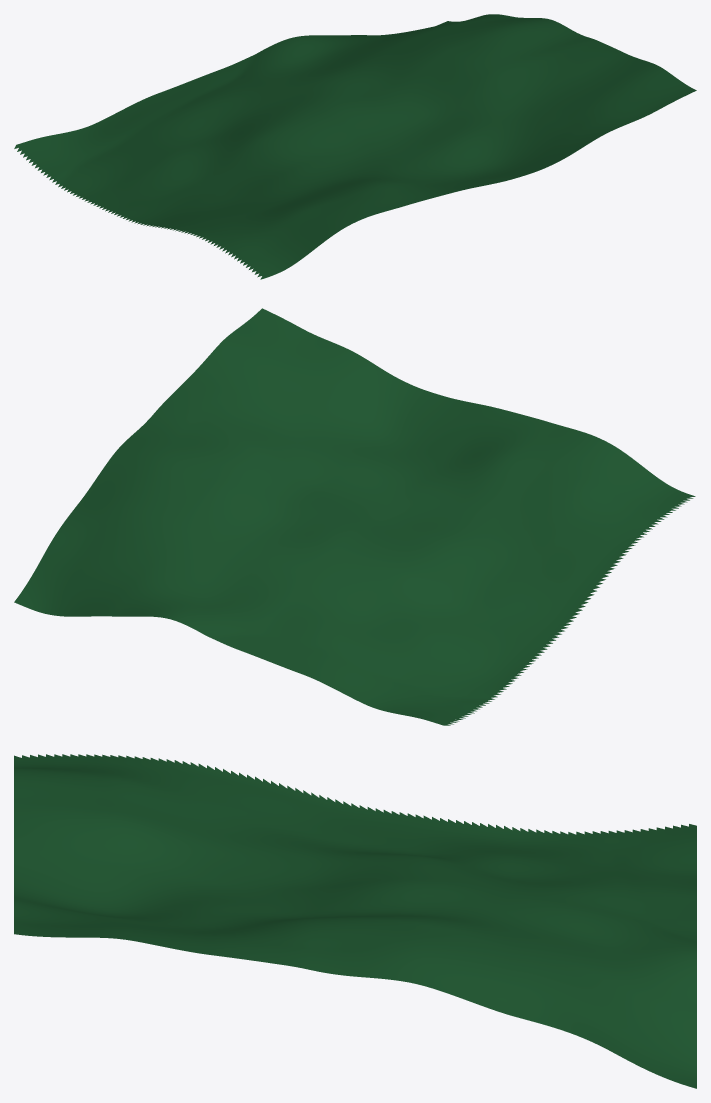
The model's file is payo_land_x1_ym3.glb.
3 views of the same model, one above another, from view 1: azimuth 30°, elevation 25°; view 2: azimuth 150°, elevation 25°; view 3: azimuth 270°, elevation 25° (orthographic). The views are drawn at different scales.
Visible parts, largest first — view 1: payo_land_x1_ym3; view 2: payo_land_x1_ym3; view 3: payo_land_x1_ym3.
Part boxes in pixels (<box>): payo_land_x1_ym3: <box>14,14,696,279</box>; payo_land_x1_ym3: <box>14,308,695,725</box>; payo_land_x1_ym3: <box>14,754,696,1088</box>.
Size of the model in its own units: 258 by 78.13 by 255.
